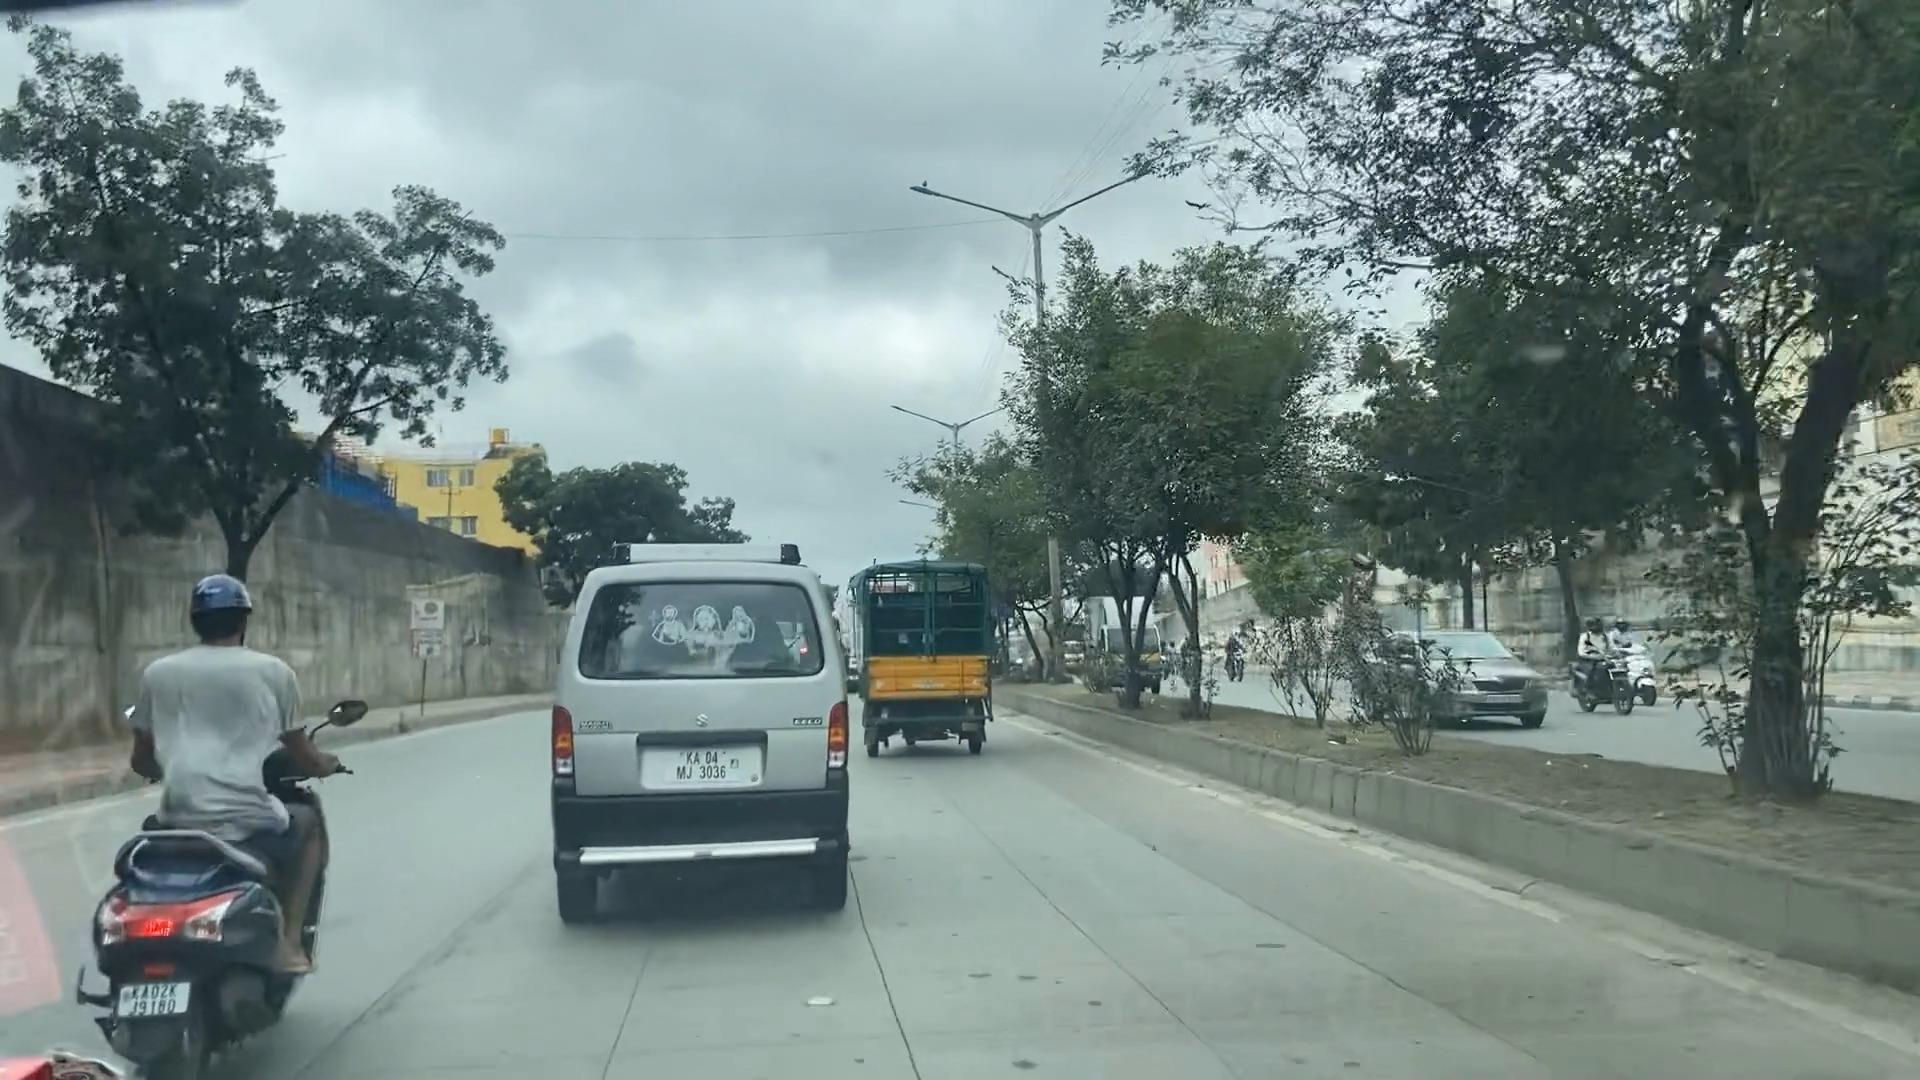HMV: (848, 550, 989, 762)
LMV: (521, 535, 872, 893), (131, 574, 323, 1071)
